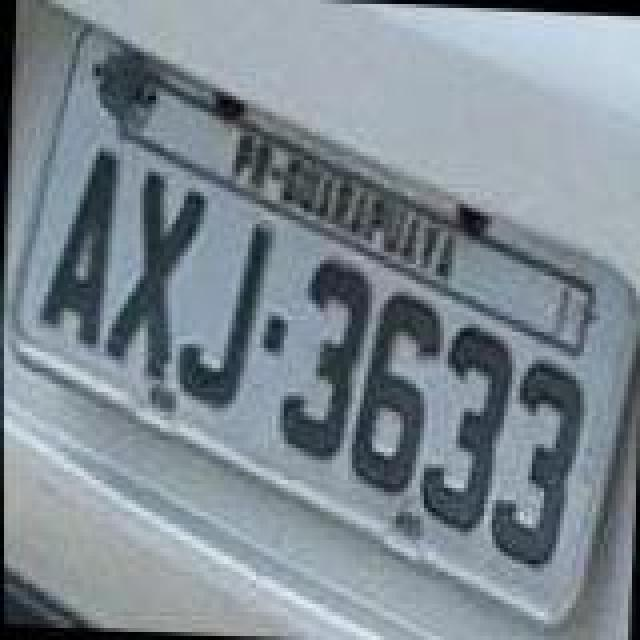3: (488, 356, 588, 572), (416, 320, 516, 536), (276, 256, 376, 464)
6: (346, 286, 442, 498)
A: (36, 140, 120, 348)
J: (176, 216, 276, 408)
X: (98, 162, 210, 382)
